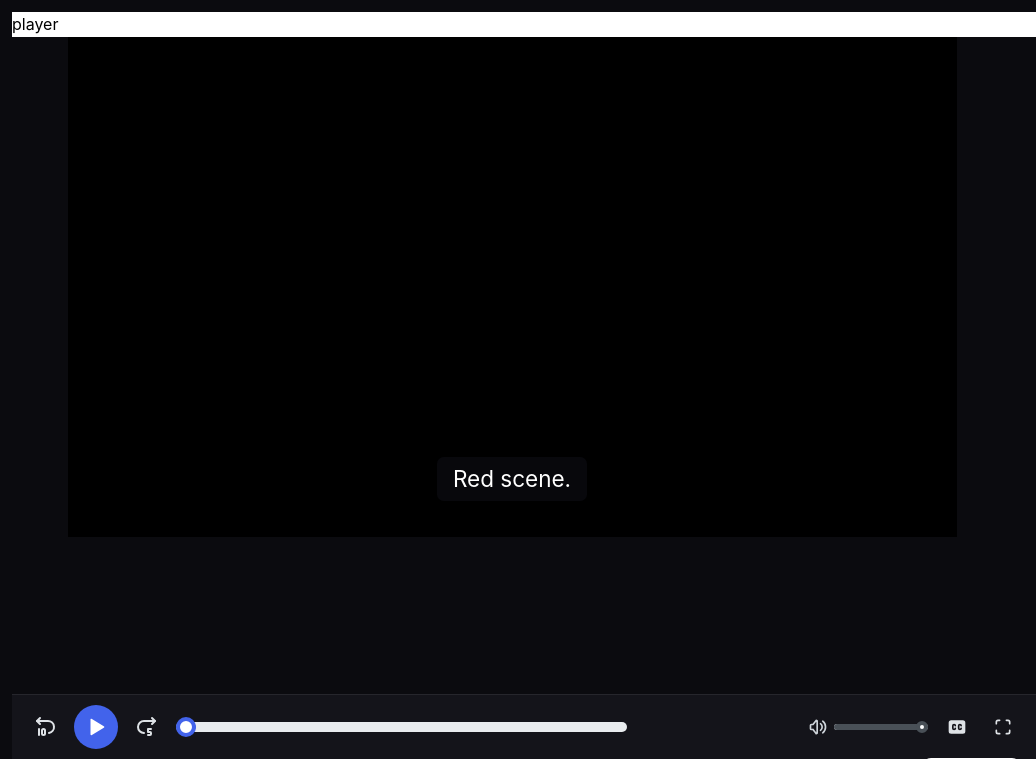
Test case: Player with a Talkie film › shows captions by default, and the toggle turns them off and on
This screenshot has width=1036, height=759.
Expected: the text with test id "caption-plate" reads "Red scene.", [453, 465, 571, 492]
Click the button with test id "play-pause": point(96, 727) [74, 705, 118, 749]
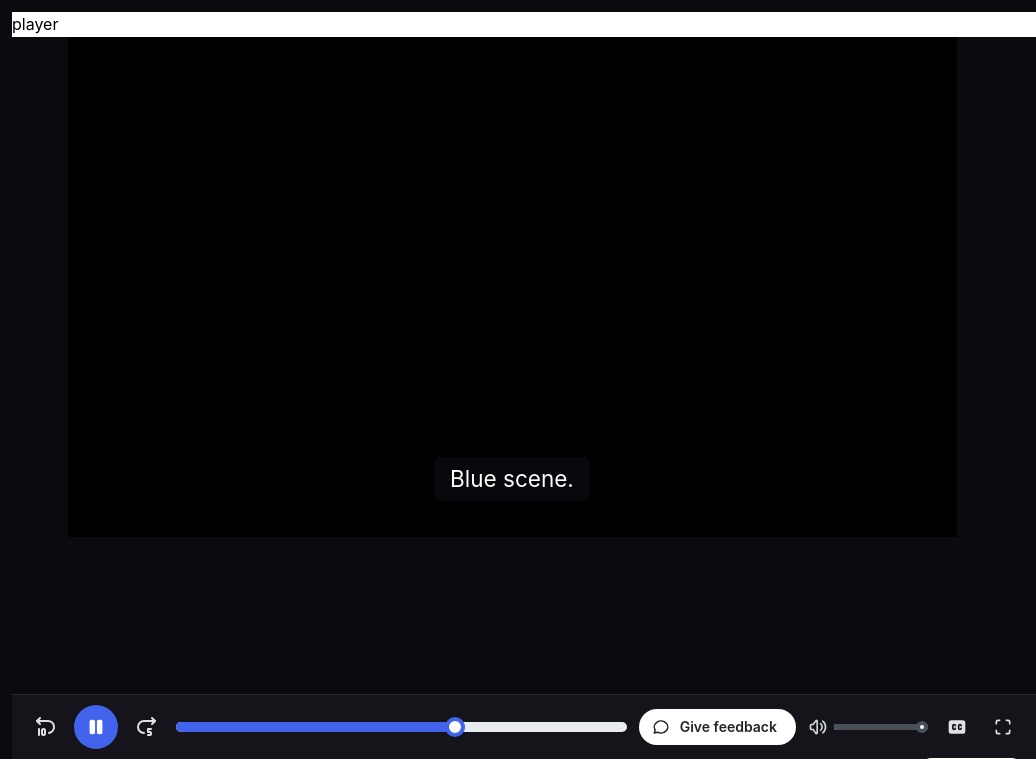
Now the text with test id "caption-plate" reads "Blue scene.", box [450, 465, 574, 492]
Click the button with test id "captions-toggle": point(957, 727) [940, 710, 974, 744]
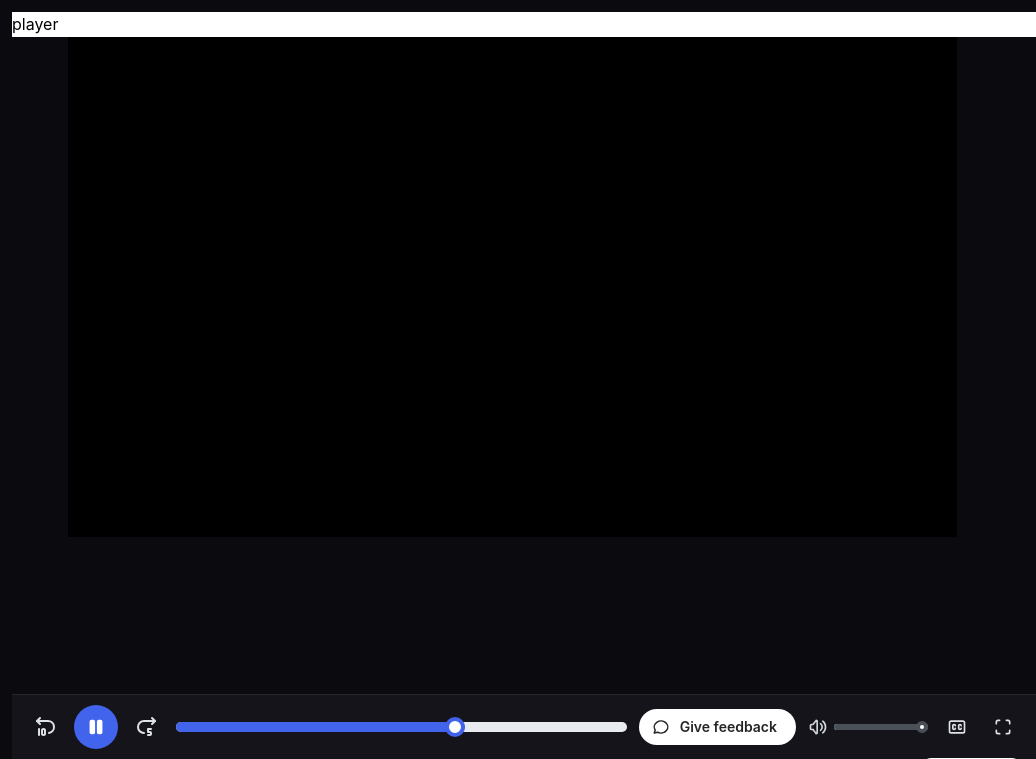
Now the text with test id "caption-plate" is gone
Click the button with test id "captions-toggle": point(957, 727) [940, 710, 974, 744]
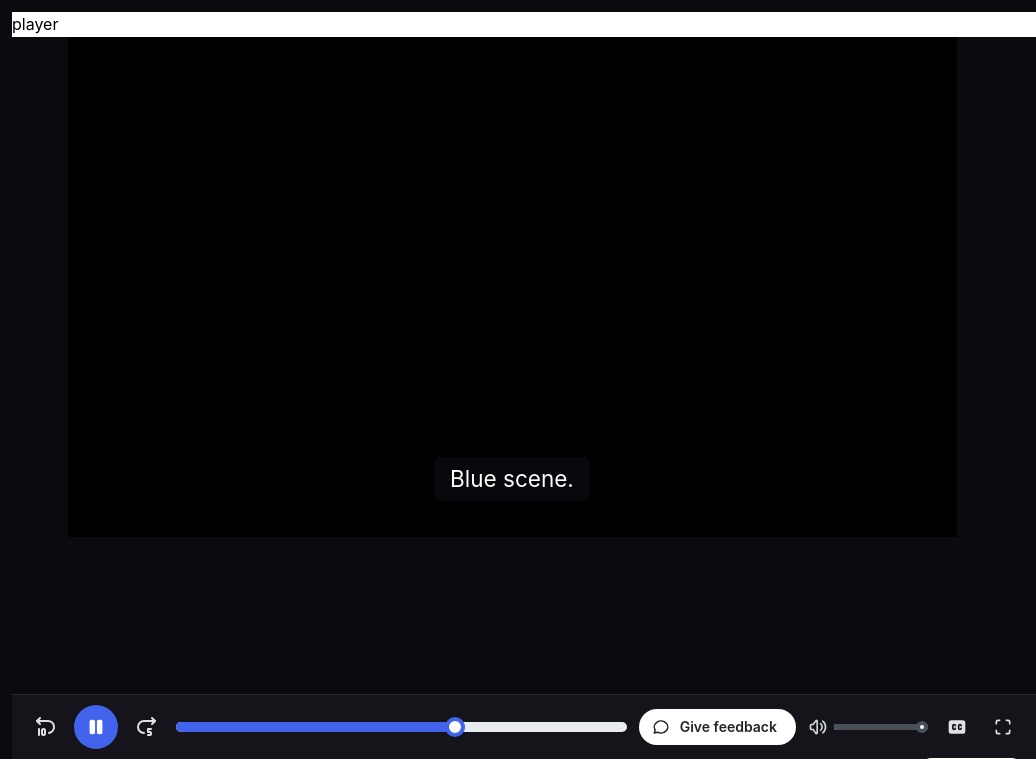
Now the text with test id "caption-plate" reads "Blue scene.", box [450, 465, 574, 492]
